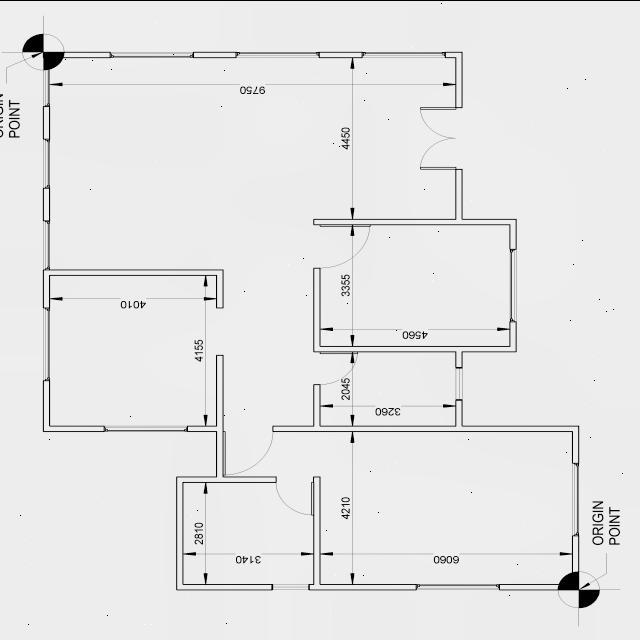Column: (559, 583, 579, 589), (44, 50, 50, 68), (572, 571, 580, 583), (50, 51, 64, 57)
Door: (222, 424, 274, 474), (313, 224, 371, 268), (313, 350, 358, 384), (276, 476, 314, 514)
Double-Door: (420, 106, 462, 168)
Window: (42, 306, 51, 381), (416, 582, 500, 590), (572, 462, 580, 536), (509, 248, 516, 322), (110, 51, 194, 57), (236, 51, 320, 57), (362, 51, 446, 57), (104, 425, 188, 431), (42, 220, 51, 270), (42, 138, 51, 188), (455, 366, 463, 400), (272, 583, 310, 589), (44, 68, 50, 106)
